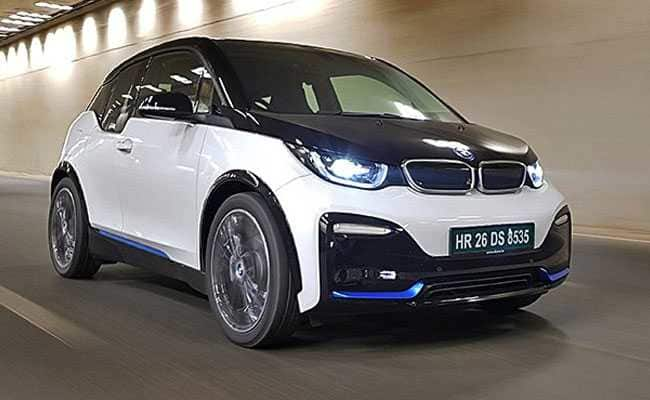number_plate: (446, 222, 540, 258)
